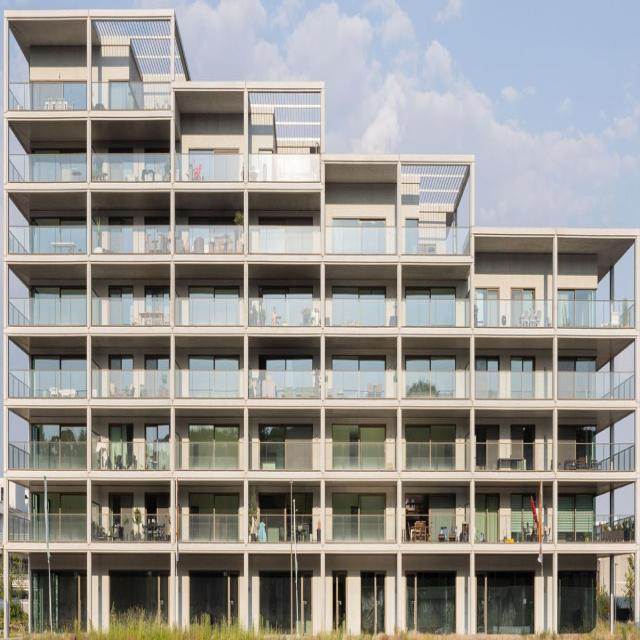door: (477, 571, 534, 638), (111, 572, 168, 639), (259, 573, 312, 639), (186, 573, 239, 639), (32, 570, 87, 631), (407, 576, 457, 632), (556, 572, 597, 637), (361, 569, 385, 638), (330, 572, 347, 639)
railing: (91, 80, 170, 112), (90, 150, 169, 182), (92, 514, 171, 546), (92, 225, 170, 257), (91, 295, 169, 327), (92, 369, 170, 401), (91, 440, 169, 472), (557, 440, 635, 471), (558, 510, 636, 541), (8, 153, 88, 183), (8, 227, 88, 257), (8, 297, 88, 327), (9, 516, 89, 546), (8, 83, 88, 112), (8, 372, 88, 401), (8, 442, 88, 471), (248, 150, 320, 182), (246, 224, 318, 256), (250, 294, 322, 326), (248, 368, 320, 400), (250, 440, 322, 472), (250, 513, 322, 545), (398, 222, 470, 254), (396, 295, 468, 327), (400, 368, 472, 400), (398, 441, 470, 473), (400, 511, 472, 543), (176, 515, 246, 546), (325, 443, 395, 474), (475, 297, 545, 328), (476, 443, 546, 474), (174, 226, 243, 257), (324, 297, 393, 328), (175, 370, 245, 400), (325, 224, 395, 254), (326, 370, 396, 400), (559, 371, 634, 399), (478, 514, 548, 544), (175, 153, 244, 183), (177, 297, 246, 327), (178, 442, 247, 472), (327, 514, 396, 544), (478, 370, 547, 400), (558, 301, 634, 327)
window: (189, 491, 242, 514), (330, 419, 388, 440), (30, 494, 87, 513), (331, 494, 385, 513), (258, 423, 315, 440), (406, 492, 457, 511), (260, 495, 315, 511), (188, 354, 240, 369), (32, 215, 87, 229), (29, 282, 84, 296), (33, 357, 88, 371), (33, 426, 87, 440), (405, 352, 455, 367), (333, 357, 386, 371), (406, 424, 455, 439), (188, 425, 240, 439), (189, 283, 239, 296), (560, 493, 594, 511), (405, 282, 455, 294), (476, 422, 504, 442), (557, 358, 596, 372), (558, 286, 597, 300), (473, 492, 500, 512), (559, 425, 597, 439), (262, 357, 313, 367), (144, 493, 172, 511), (332, 288, 385, 297), (145, 425, 171, 443), (260, 287, 312, 296), (511, 494, 535, 513), (512, 355, 536, 373), (510, 427, 535, 443), (110, 494, 134, 510), (108, 355, 134, 369), (144, 357, 170, 371), (189, 217, 234, 225), (476, 286, 499, 298), (110, 427, 134, 438), (476, 357, 500, 368), (510, 287, 535, 295), (145, 216, 170, 224), (110, 287, 134, 295), (146, 287, 170, 295), (110, 218, 133, 225)
